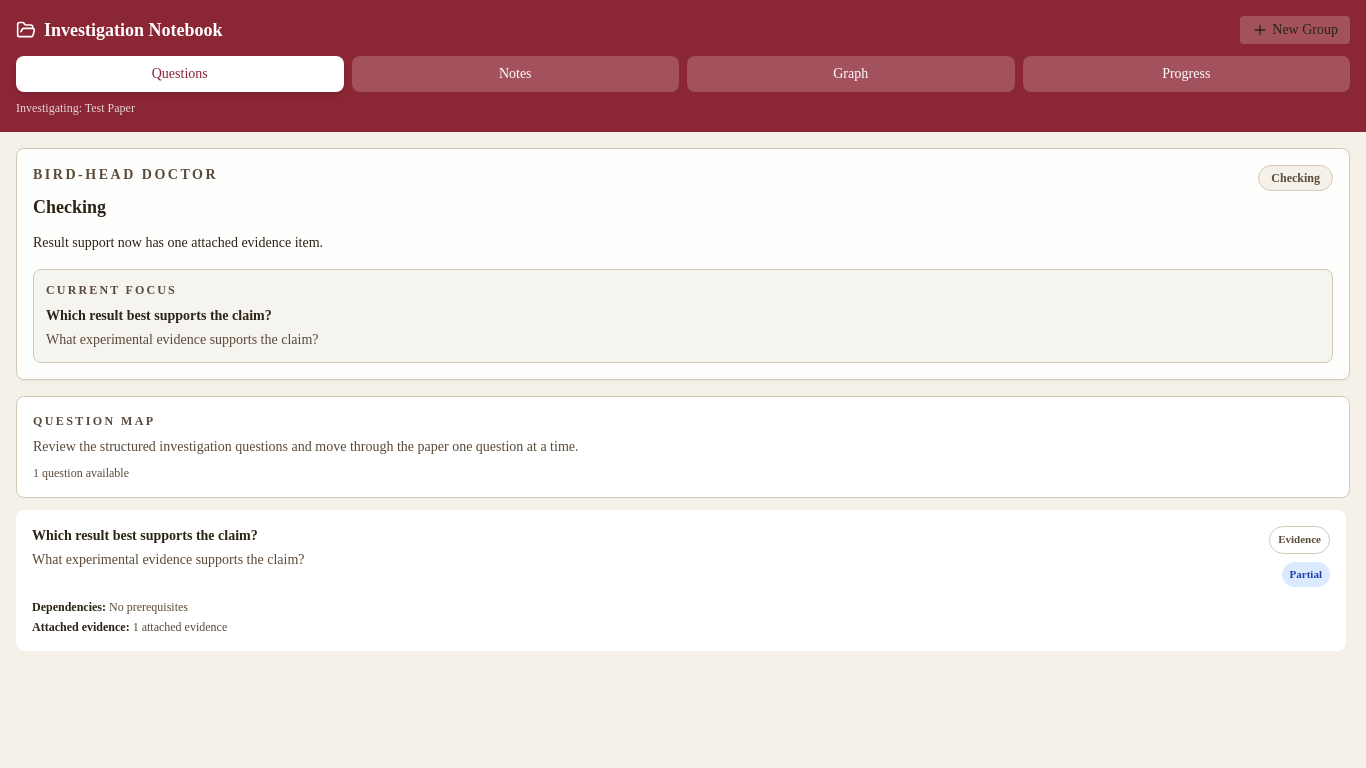
it: evidence submission flow › keeps submitted evidence attached to the active question node
Click the tab "Notes" at (515, 74), box [352,56,679,92]
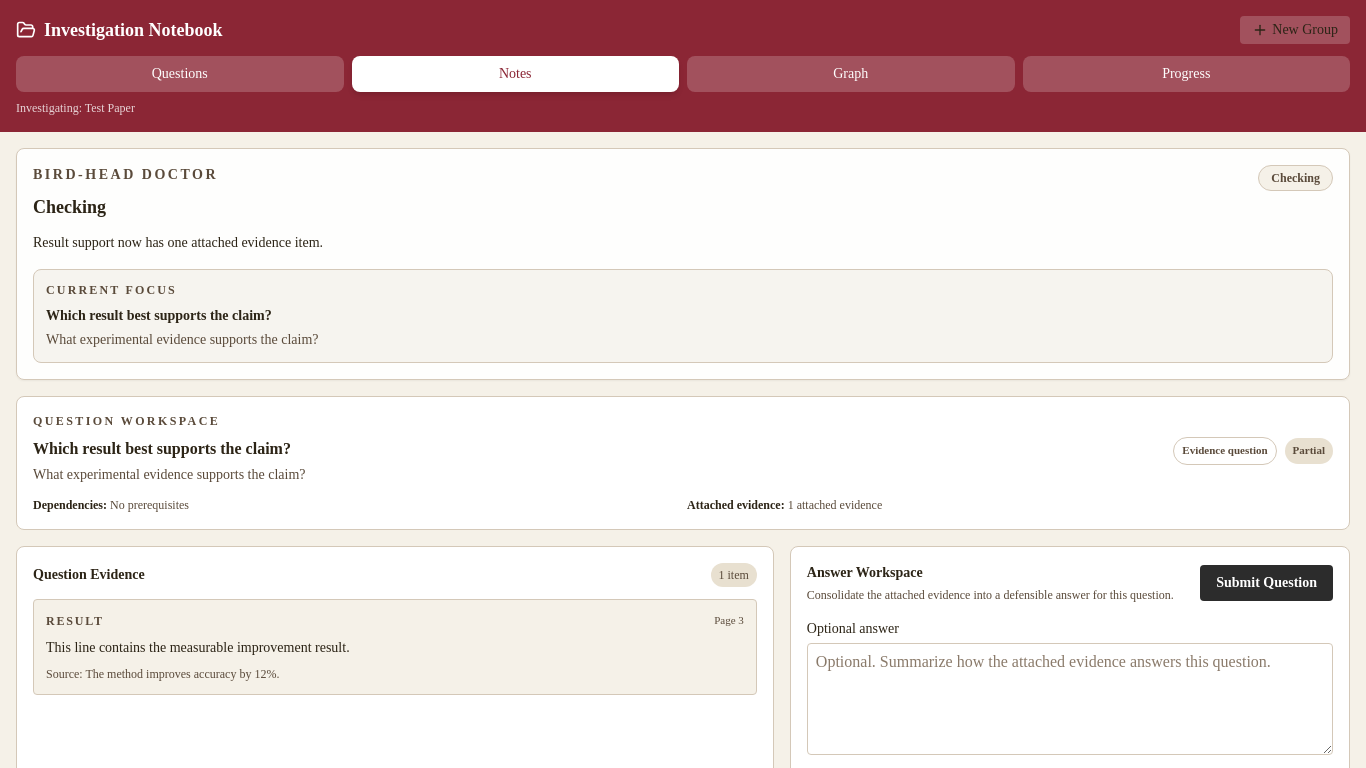
Expected: the text "1 attached evidence" is shown, [687,498,882,512]
Expected: the text "Question Evidence" is shown, [33,565,145,585]
Expected: the text "This line contains the measurable improvement result." is shown, [46,640,350,655]
